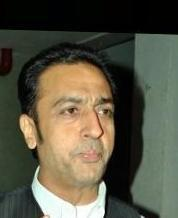face: (56, 97, 112, 163)
